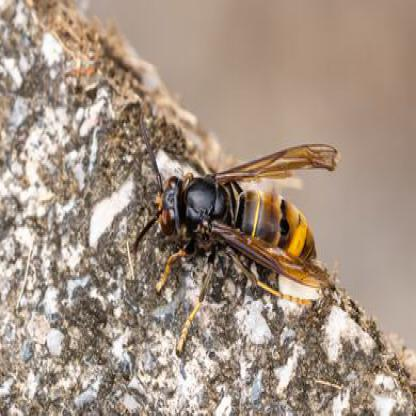Asian Hornet: (137, 138, 340, 354)
